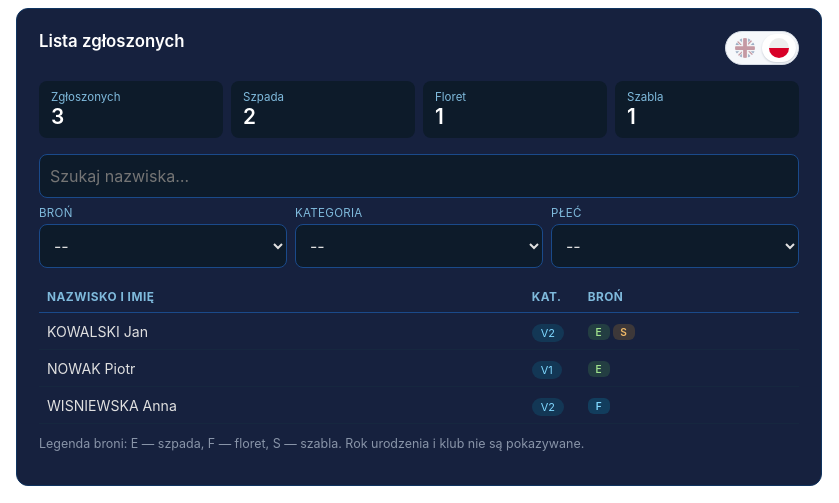
Scenario: EntryList › filters by surname search
Expected: the text "KOWALSKI Jan" is shown, left=39, top=312, right=524, bottom=350
In the field named "search": x=419, y=176 left=39, top=154, right=799, bottom=198, type "nowak"
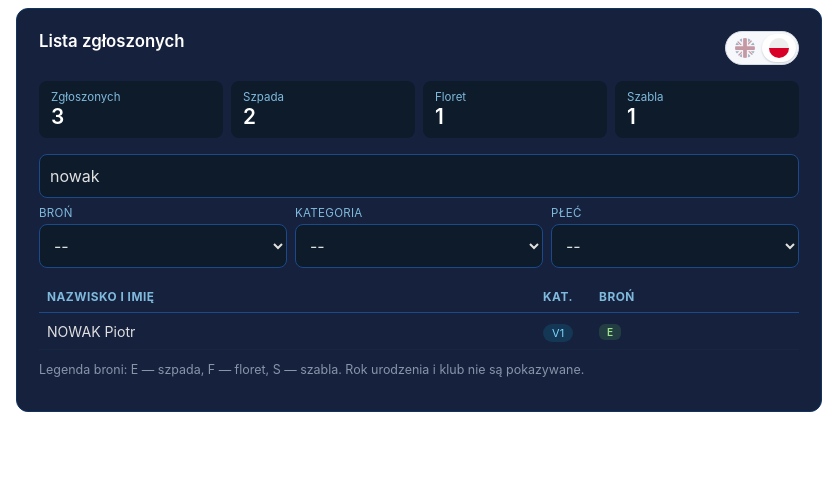
Expected: the text "NOWAK Piotr" is shown, left=39, top=312, right=535, bottom=350
Expected: the text "KOWALSKI Jan" is gone
